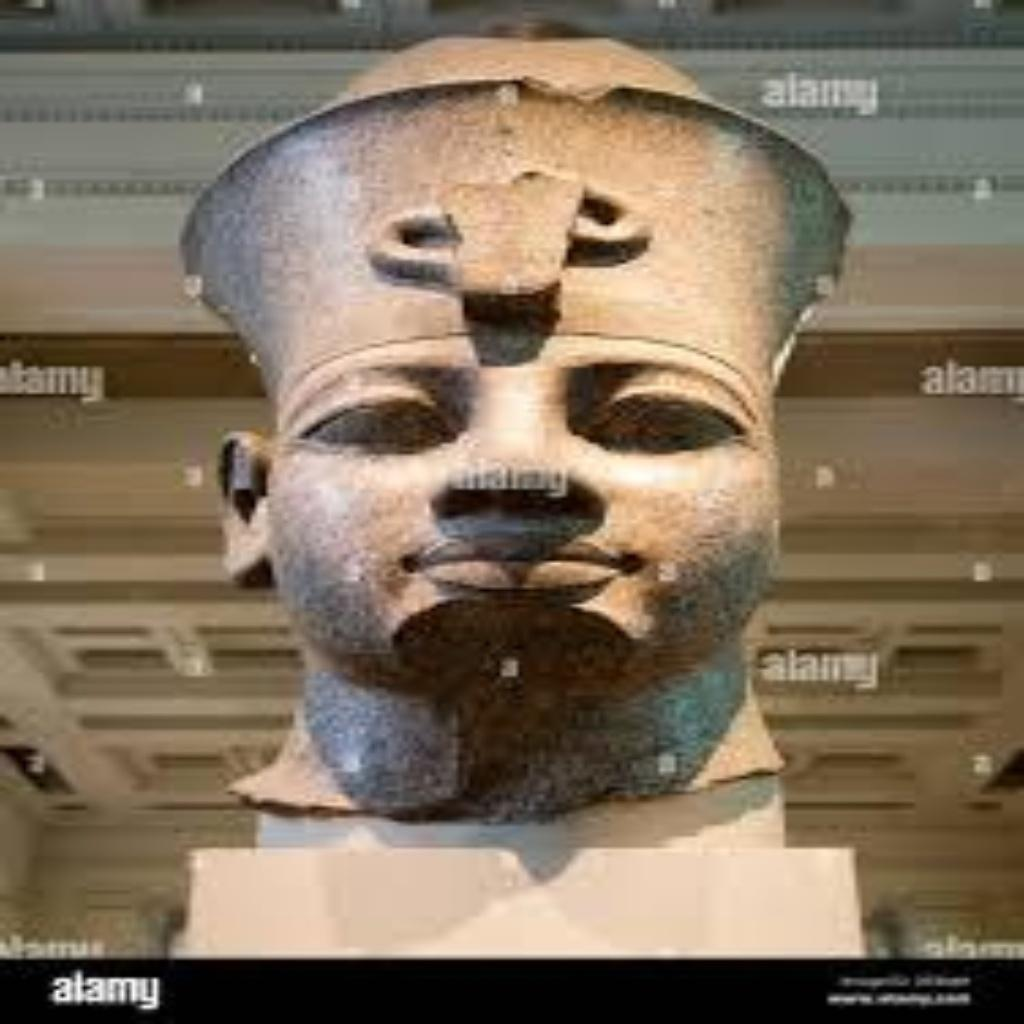Head Statue of Amenhotep iii: (169, 26, 855, 826)
